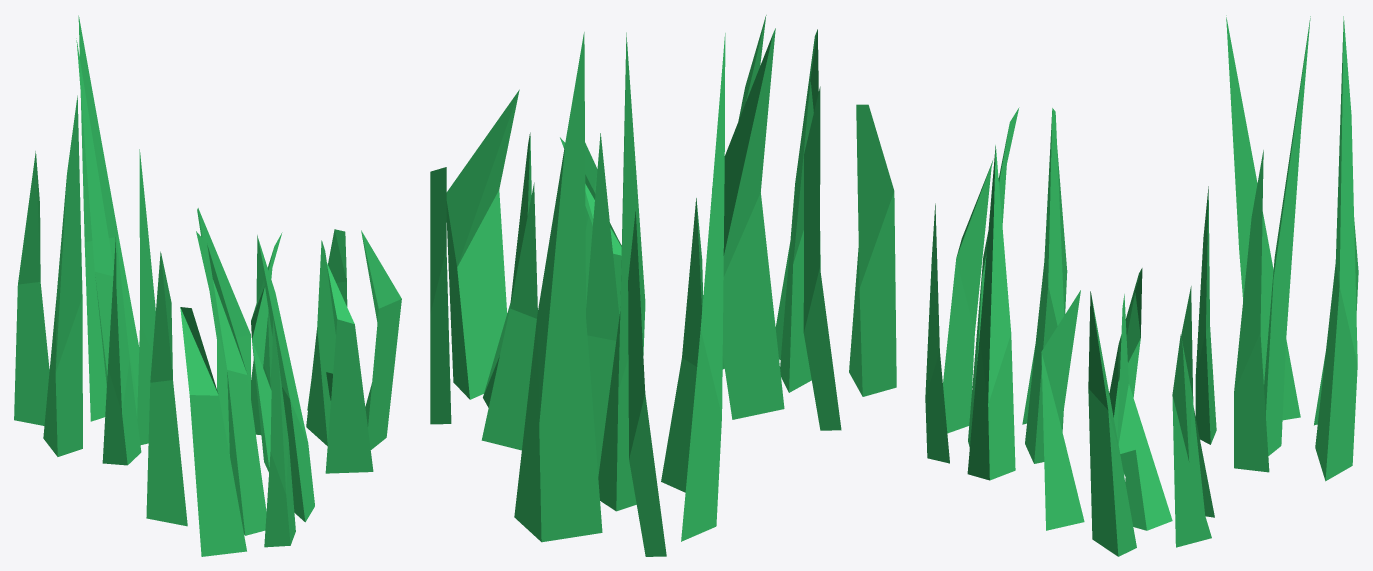
Rendered from Grass2.glb.
3 views of the same model, side by side, from view 1: azimuth 30°, elevation 25°; view 2: azimuth 150°, elevation 25°; view 3: azimuth 270°, elevation 25° (orthographic). The views are drawn at different scales.
Visible parts, largest first — view 1: Grass.001; view 2: Grass.001; view 3: Grass.001.
Part boxes in pixels (x1,y1,x2,y2): Grass.001: (14,15,401,556); Grass.001: (430,15,896,556); Grass.001: (925,15,1358,556).
Size of the model in its own units: 2.7 by 3.67 by 3.31.
